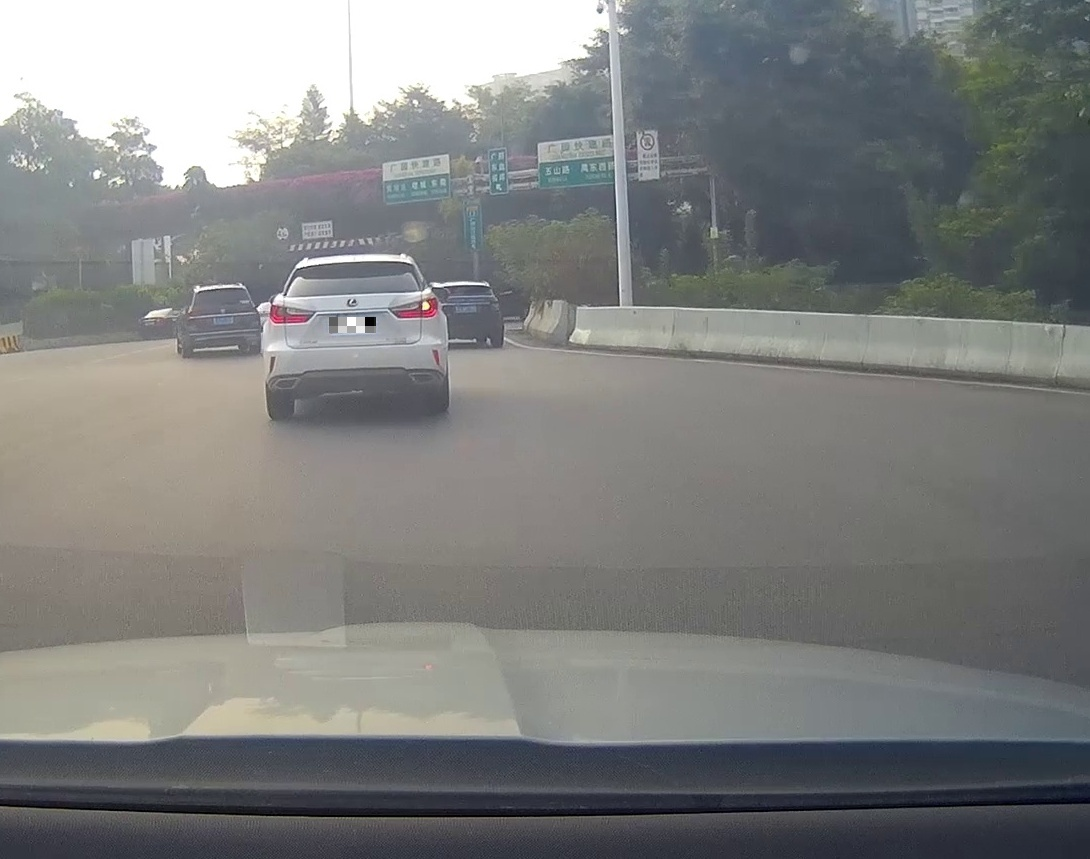L_light: (269, 305, 317, 324), (187, 311, 200, 316)
R_light: (389, 297, 439, 319), (243, 309, 255, 313)
T_light: (342, 264, 361, 268), (218, 290, 229, 292)
day-no: (183, 286, 260, 358)
day-right: (263, 255, 448, 419)
plate_1: (329, 317, 376, 333)
